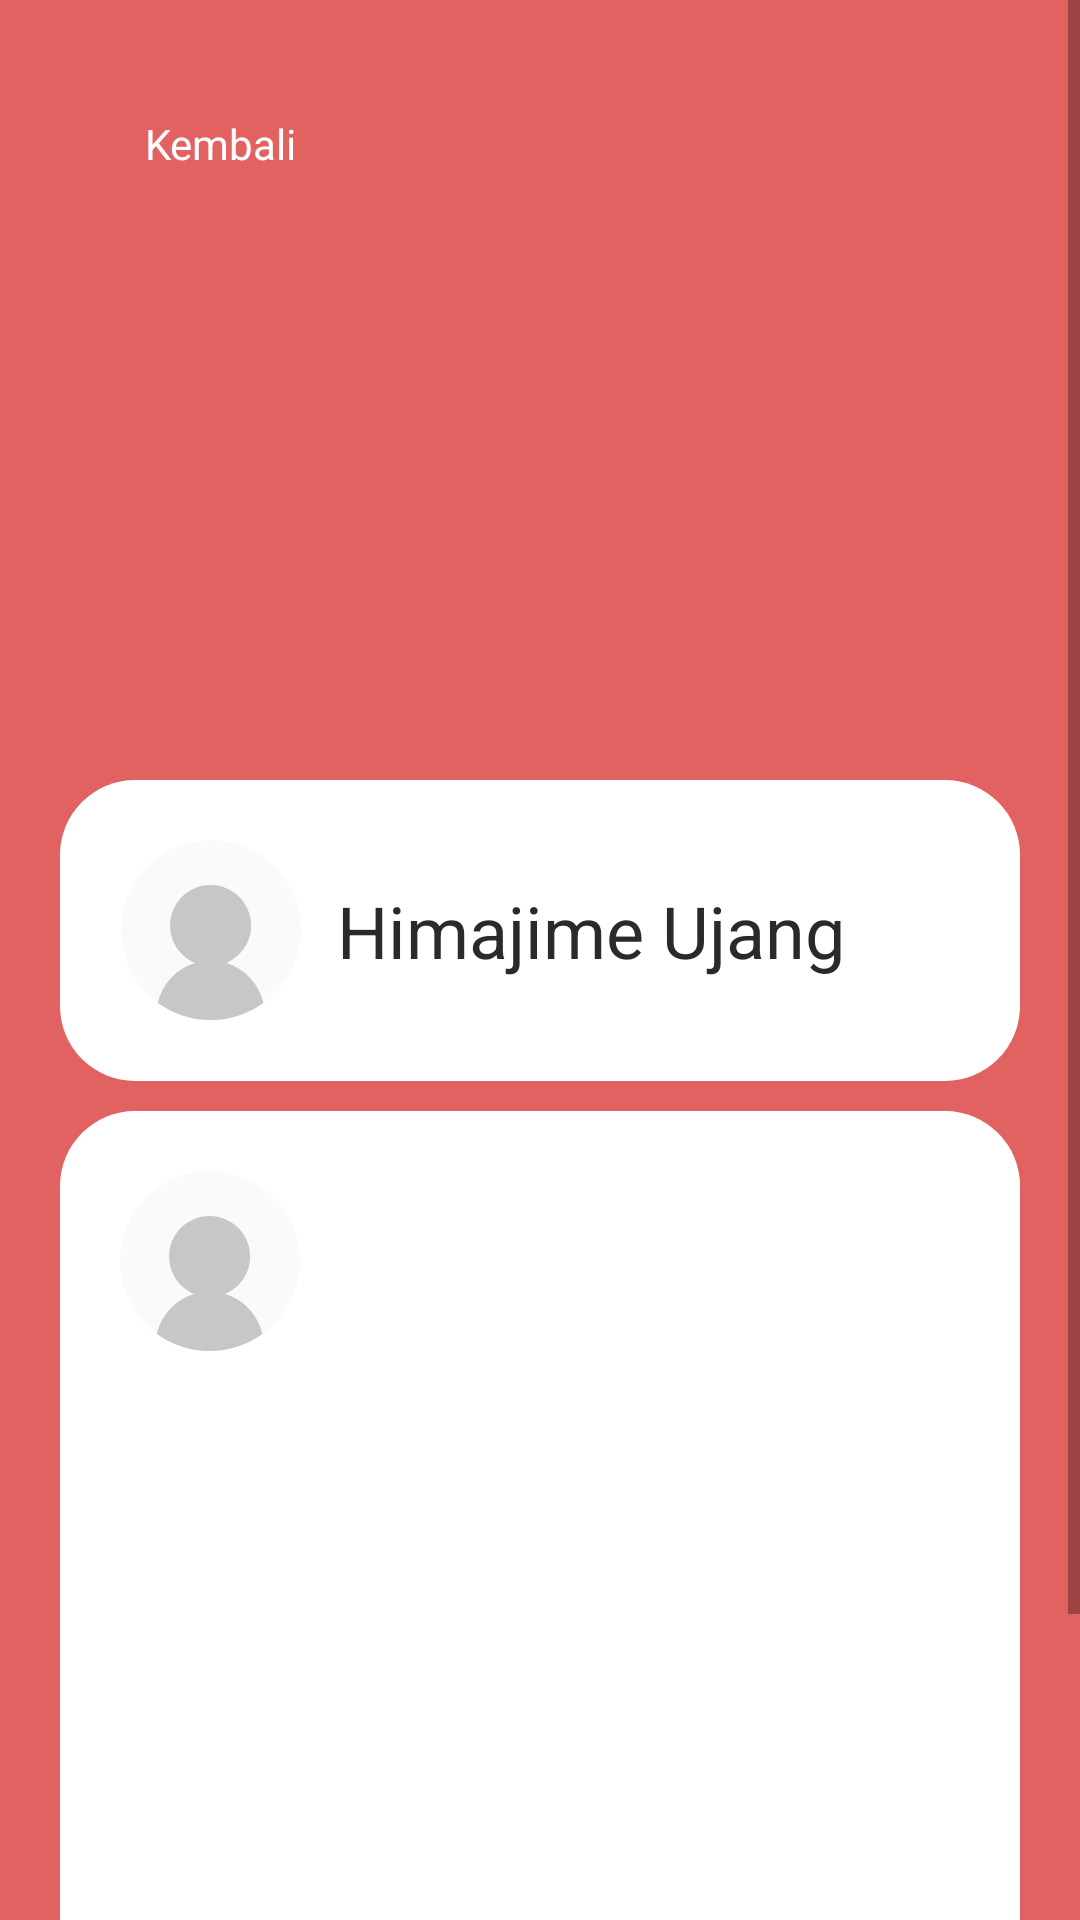

Icon click points for this 1080px x 1920px phone screenshot, format point (x, y):
profile: point (210, 952), point (209, 1283)
